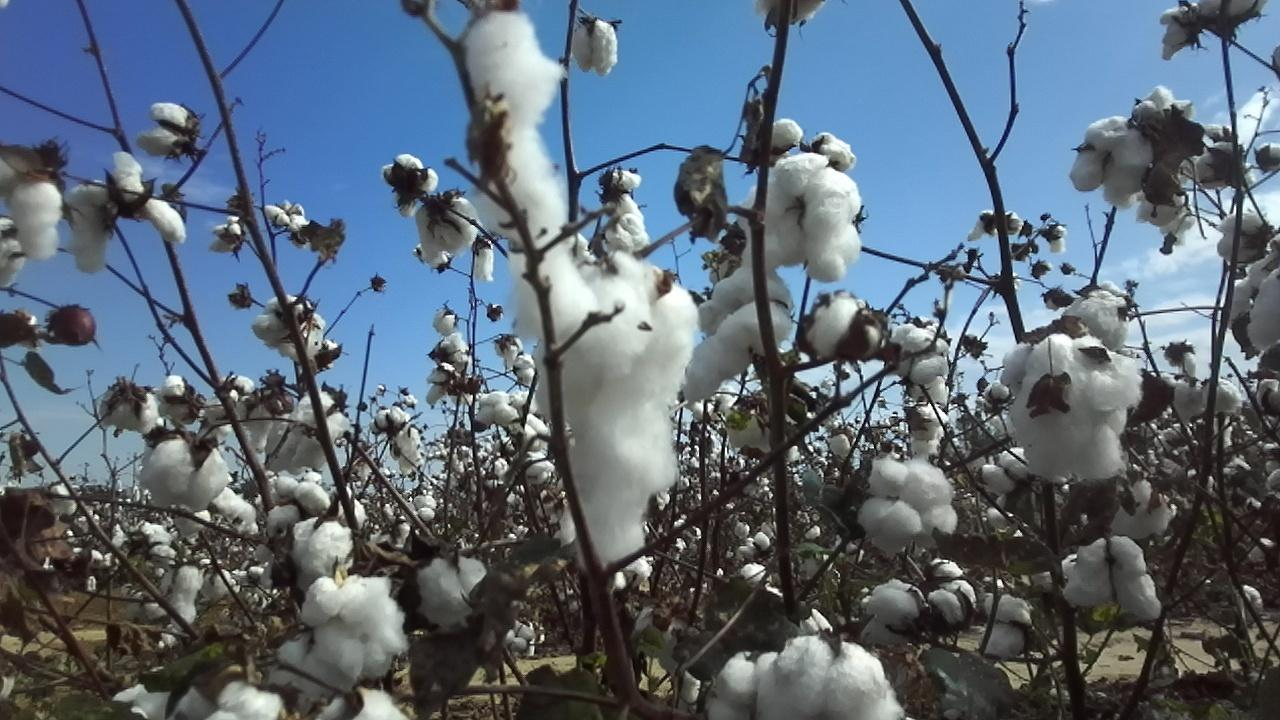cotton_ready: (535, 255, 699, 572), (462, 10, 587, 338), (997, 333, 1144, 484), (705, 635, 910, 720), (737, 153, 862, 284), (684, 269, 792, 405), (304, 577, 409, 677), (858, 459, 961, 552), (1060, 538, 1165, 622), (1066, 118, 1157, 209), (205, 370, 300, 454), (113, 151, 189, 244), (141, 438, 230, 515), (1221, 242, 1280, 354), (1159, 0, 1270, 59), (0, 151, 60, 259), (275, 389, 354, 467), (412, 558, 494, 632), (806, 289, 884, 360), (889, 323, 954, 407), (1062, 279, 1137, 351), (854, 577, 929, 647), (253, 294, 322, 364), (64, 179, 112, 272), (599, 170, 649, 255), (416, 193, 475, 264), (978, 590, 1034, 664), (263, 474, 330, 534), (380, 154, 441, 219), (133, 100, 199, 158), (1110, 482, 1175, 539), (313, 685, 412, 720), (205, 679, 287, 720), (1216, 209, 1272, 266), (930, 577, 976, 637), (100, 390, 159, 432), (0, 218, 25, 289)
